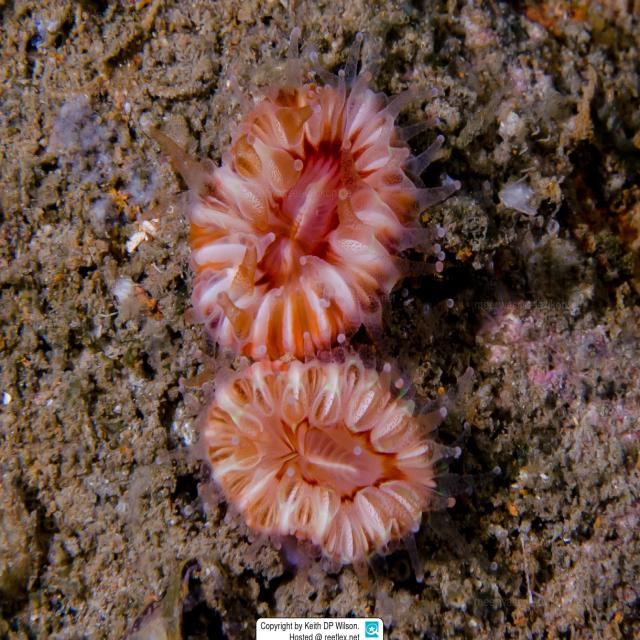Coral: (150, 24, 452, 361), (158, 332, 502, 626)
